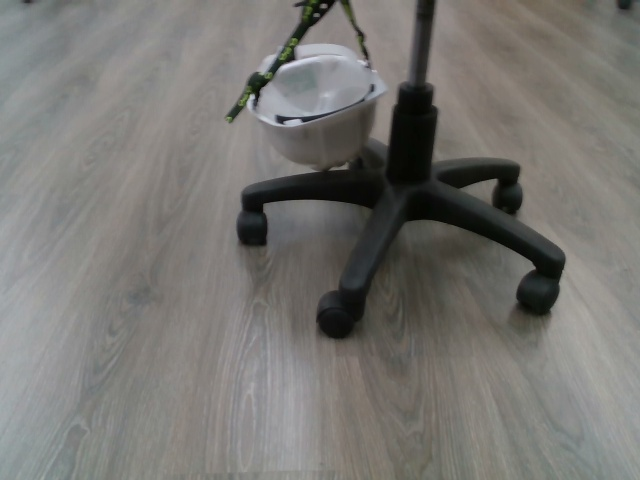helmet: (241, 42, 391, 167)
